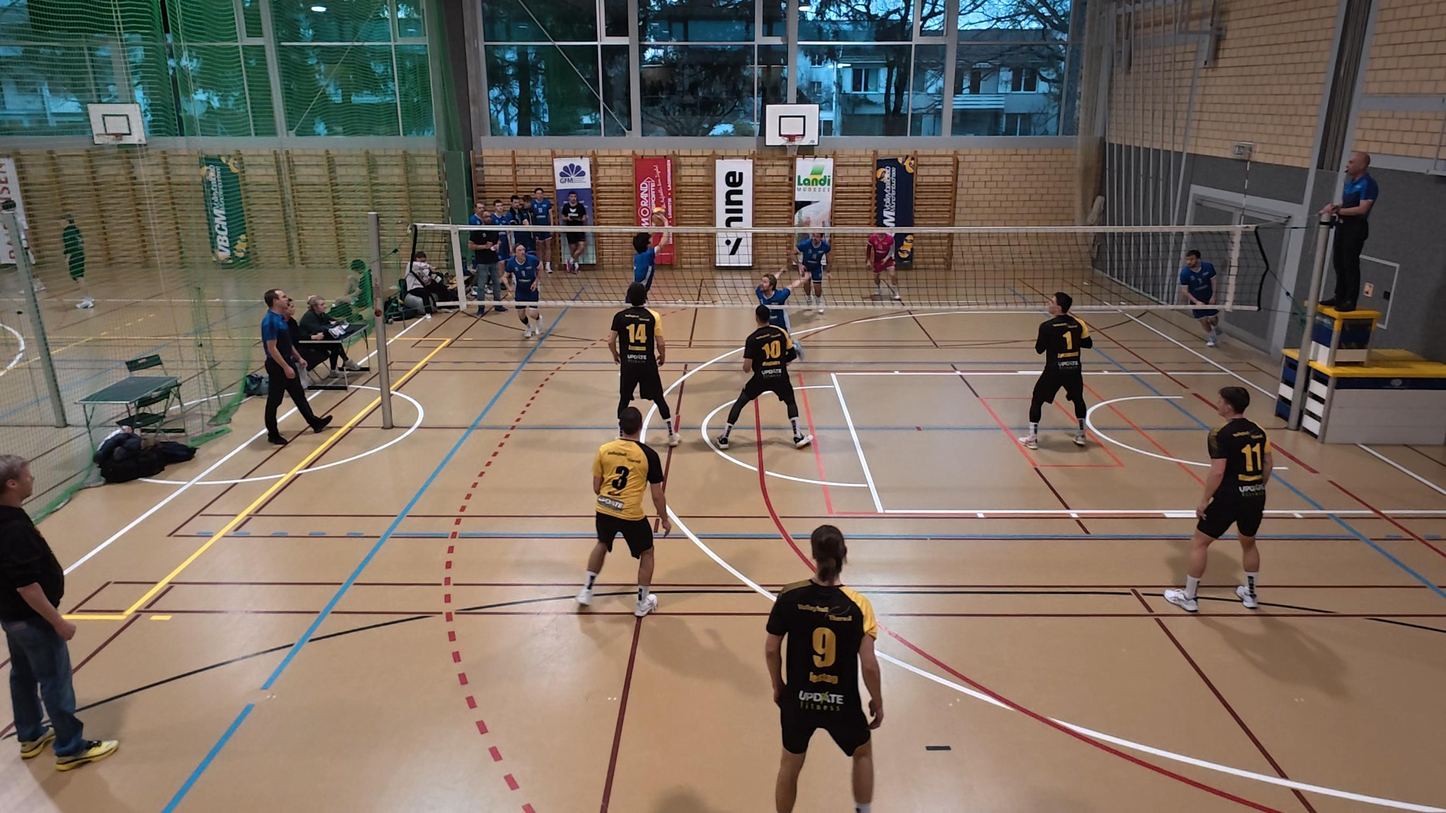Player: (764, 525, 882, 812), (1166, 387, 1270, 612), (577, 405, 667, 617), (716, 310, 812, 448), (608, 282, 679, 445), (1020, 292, 1093, 448), (1178, 248, 1221, 347), (505, 240, 544, 339), (791, 226, 831, 315), (751, 269, 797, 341), (864, 225, 899, 301)
Set: (619, 199, 682, 307)
ball: (648, 198, 669, 223)
